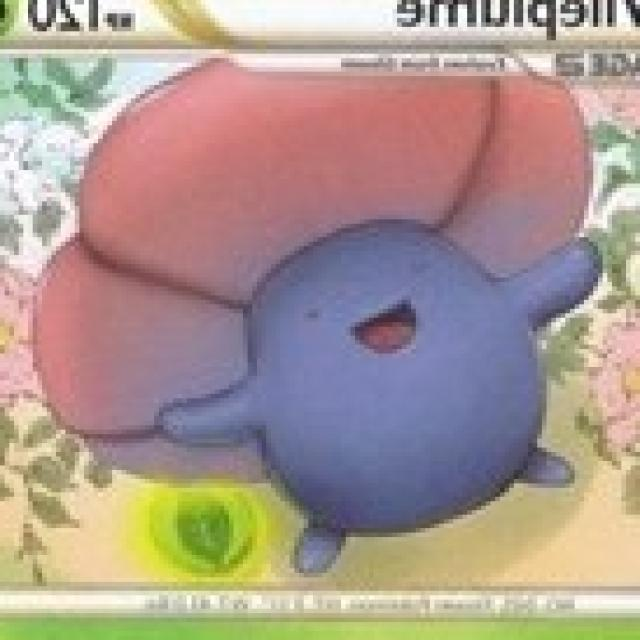Vileplume: (153, 73, 554, 536)
